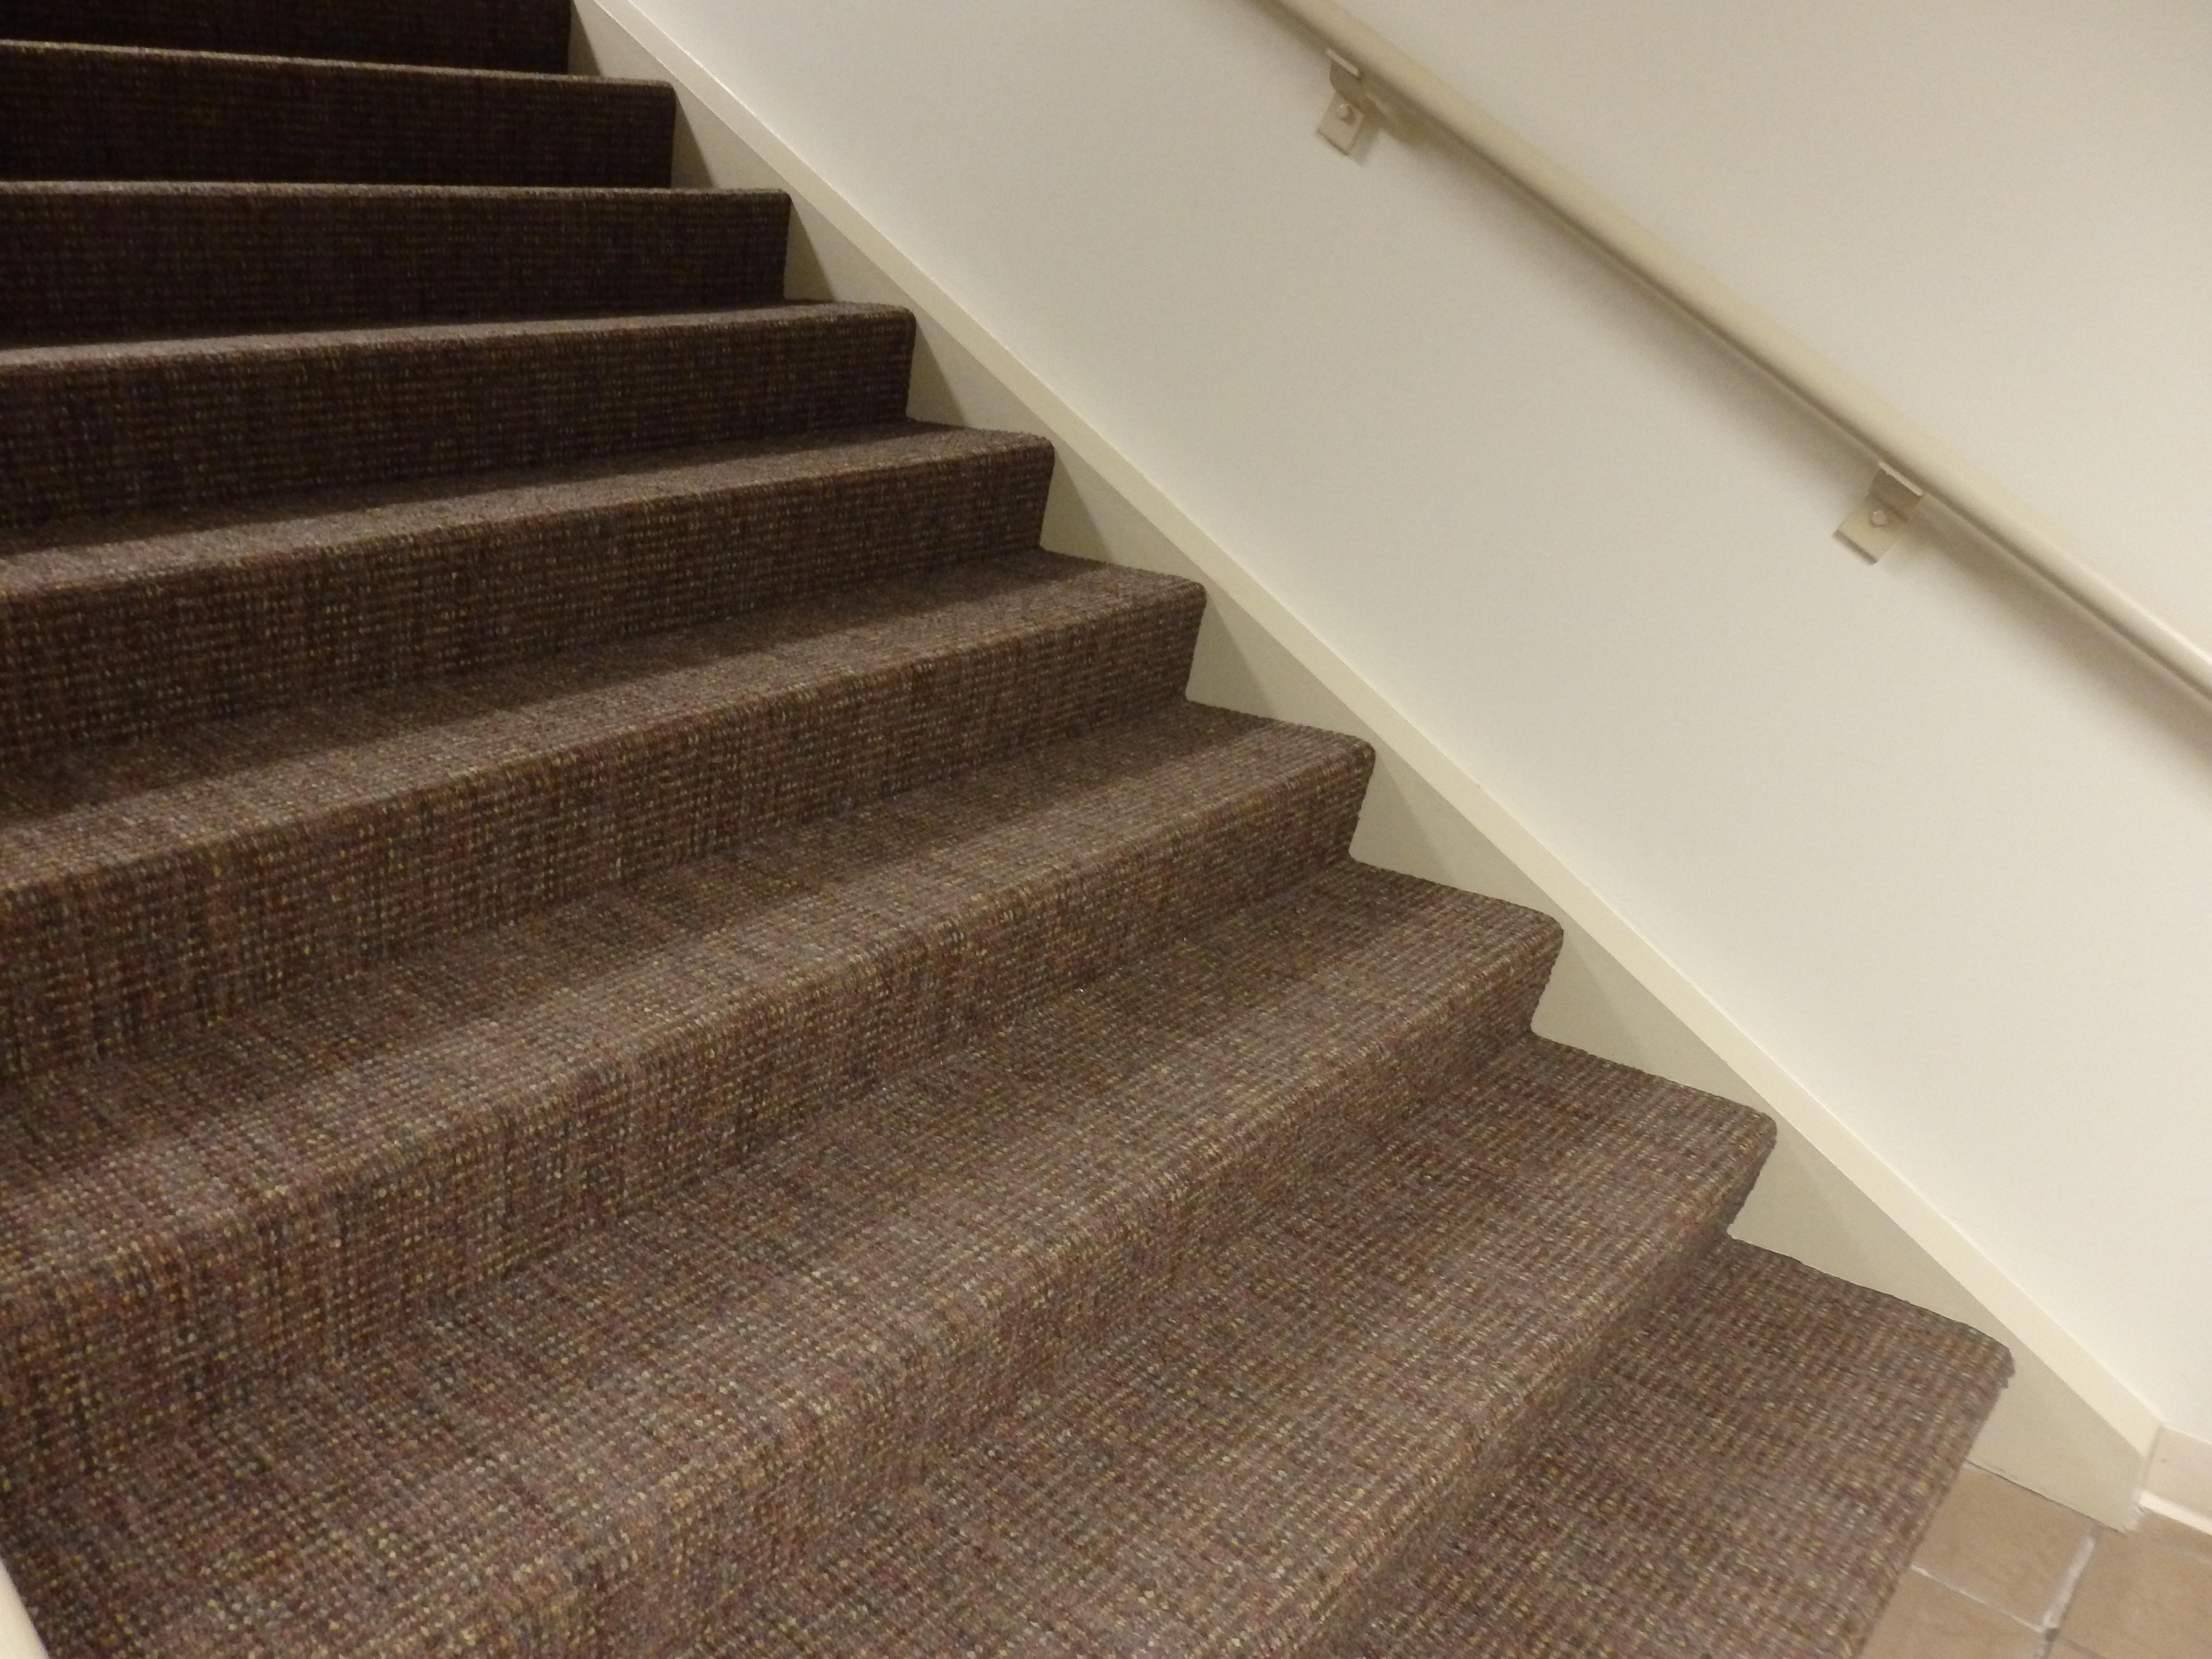stairs_up: (21, 16, 1493, 1521)
